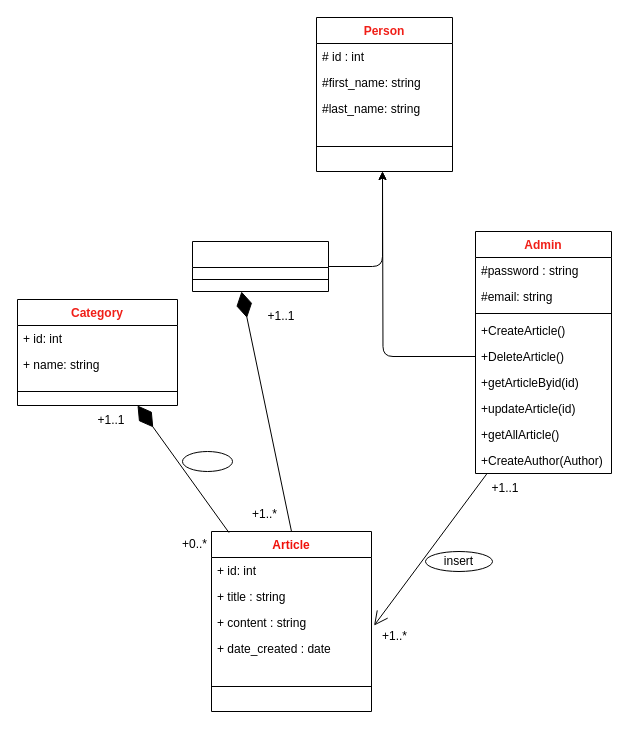
Some shapes in this 629 by 729 pixel diagram are drawn without their labels. The shapes that lost their labels are listed below. From the top down, each one's centre as x and y in pixels, then its label:
(x=260, y=266): Author
(x=207, y=461): of
